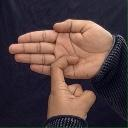hand: (8, 18, 113, 79), (47, 55, 97, 122)
